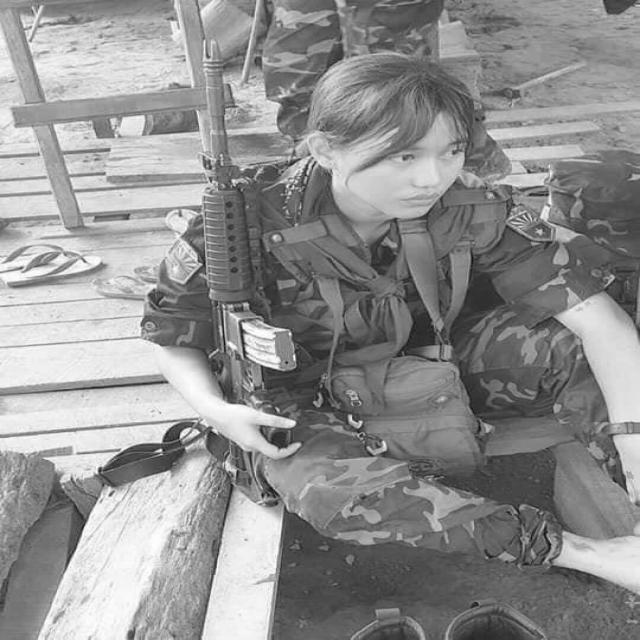gun: (201, 38, 290, 511)
